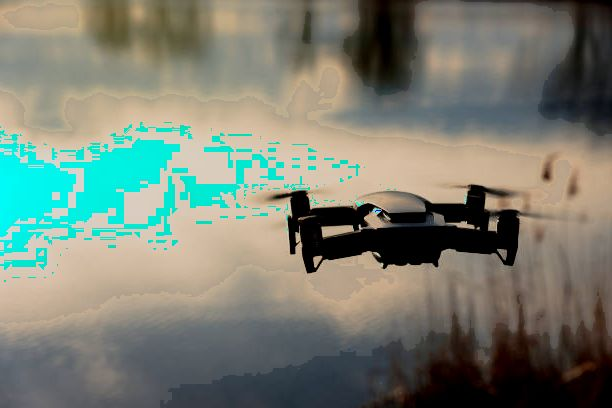Drone: (242, 179, 564, 278)
